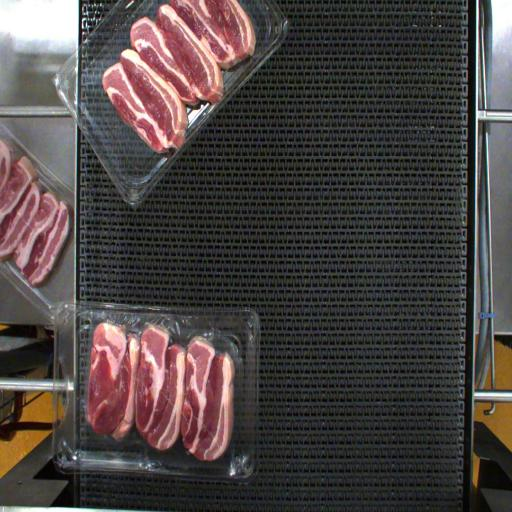unsealed: (64, 309, 251, 475)
